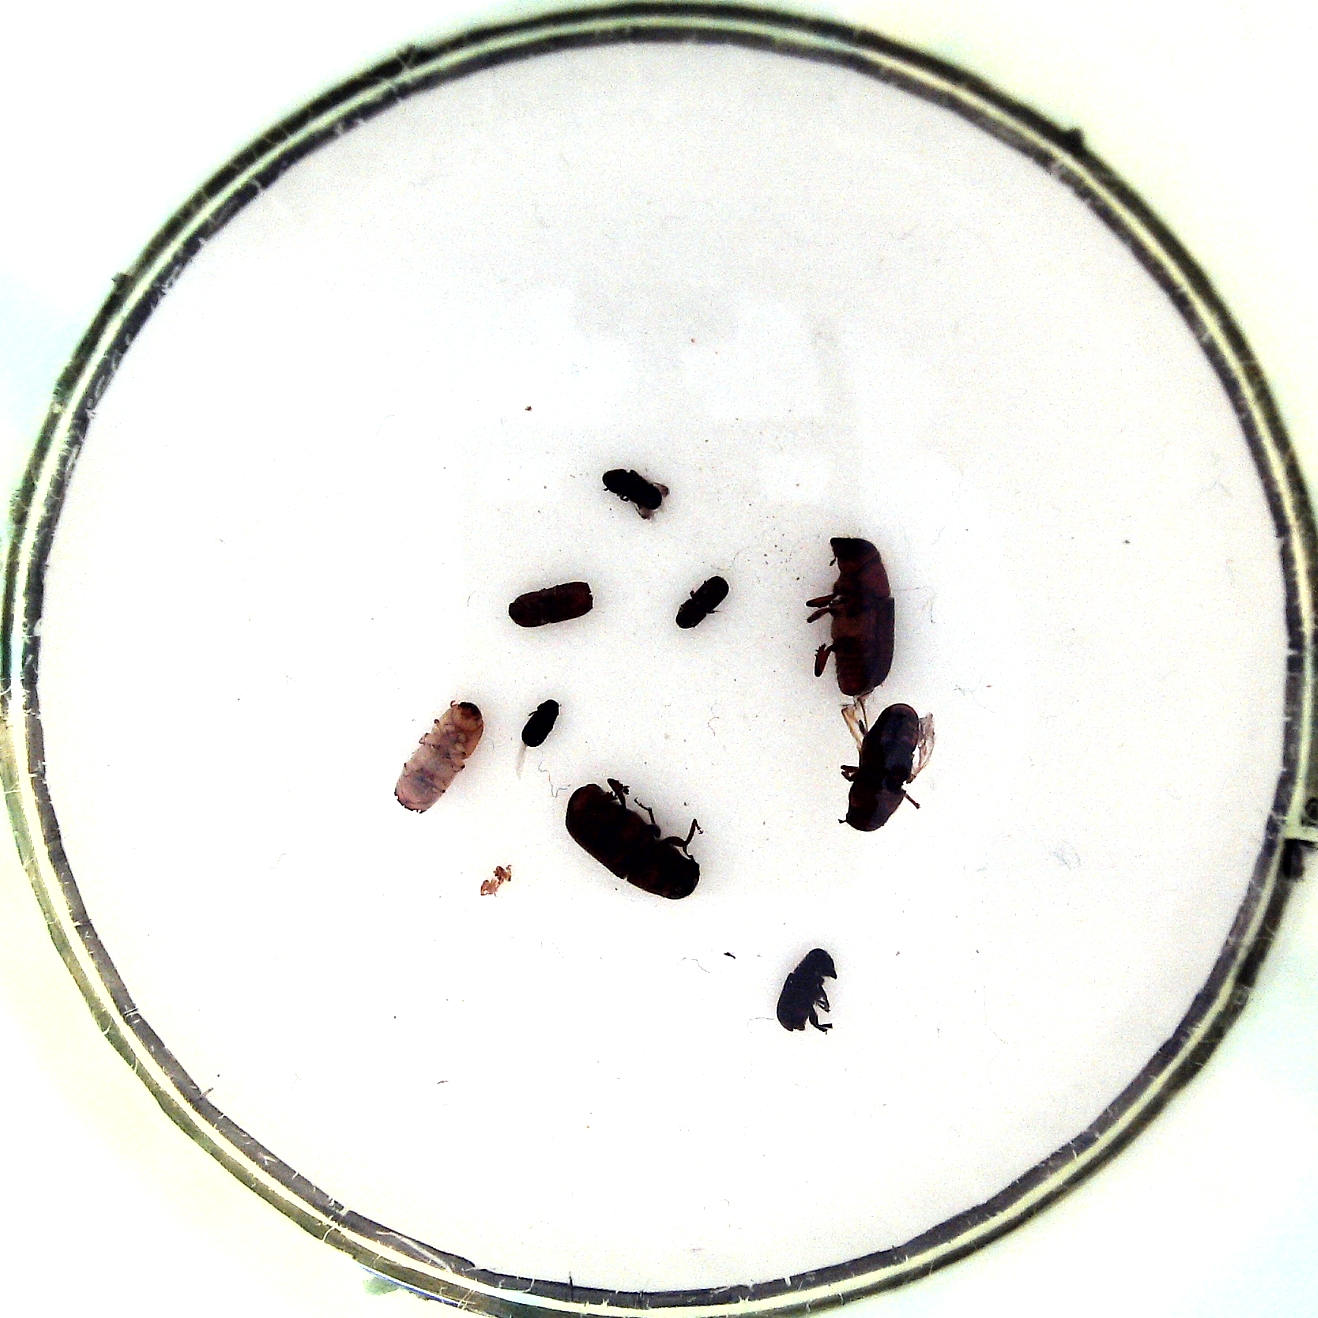Boerner: (386, 694, 486, 818)
Leconte: (558, 772, 705, 904), (799, 527, 902, 708), (838, 695, 945, 841)
Linnaeus: (502, 577, 602, 632)
armandi: (771, 944, 842, 1038)
coleoptera: (595, 463, 676, 520), (509, 699, 564, 778), (667, 571, 733, 635)
